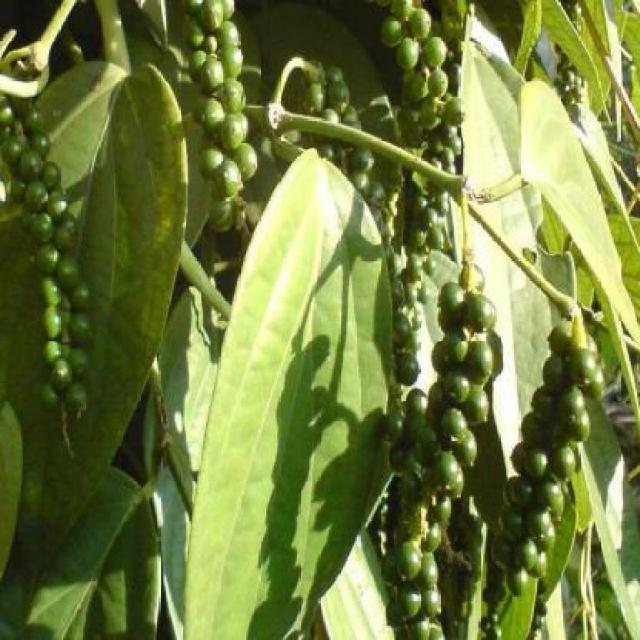UNRIPE: (402, 280, 500, 634), (516, 292, 613, 577), (6, 55, 74, 440), (392, 11, 469, 251), (192, 0, 263, 242)
